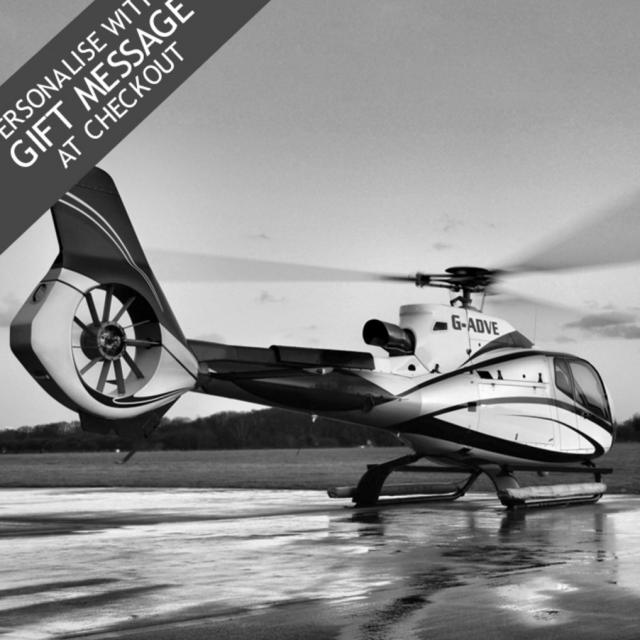helicopter: (15, 155, 633, 517)
